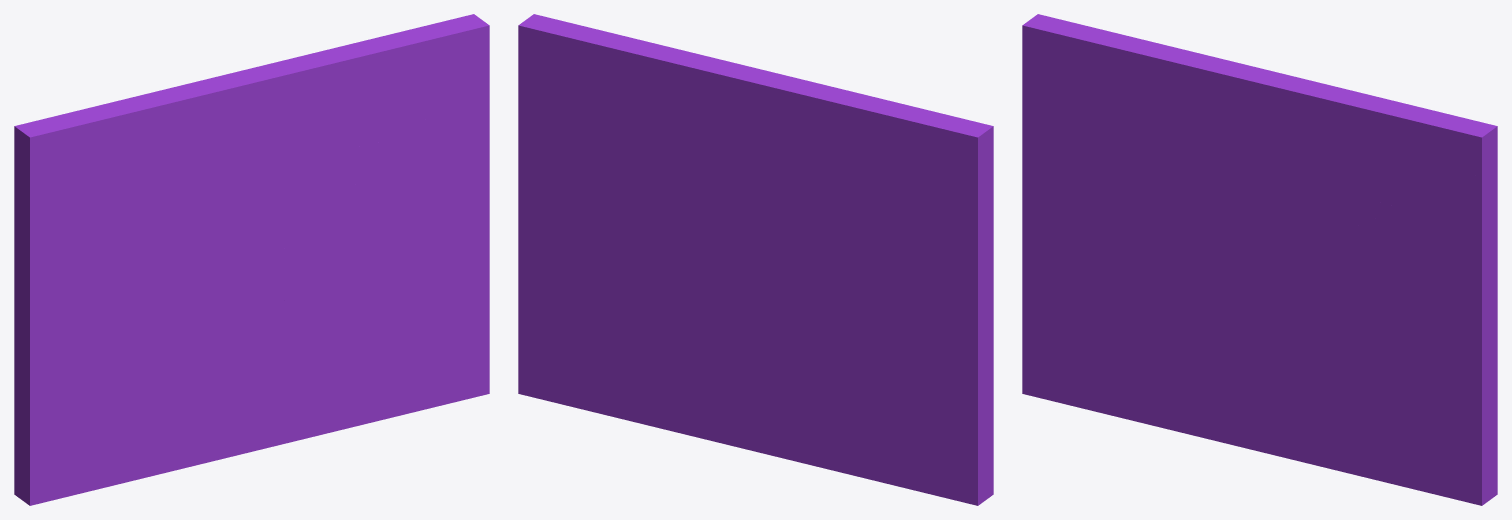
File: Barrier_212_chunks.fbx
3 views of the same model, side by side, from view 1: azimuth 30°, elevation 25°; view 2: azimuth 150°, elevation 25°; view 3: azimuth 330°, elevation 25° (orthographic).
Visible parts, largest first — view 1: Barrier_212_1, Barrier_212_2, Barrier_212_6, Barrier_212_3, Barrier_212_0, Barrier_212_5, Barrier_212_4; view 2: Barrier_212_2, Barrier_212_1, Barrier_212_3, Barrier_212_6, Barrier_212_4, Barrier_212_5, Barrier_212_0; view 3: Barrier_212_1, Barrier_212_2, Barrier_212_6, Barrier_212_3, Barrier_212_0, Barrier_212_5, Barrier_212_4.
Part boxes in pixels (<box>): Barrier_212_1: <box>277,61,489,438</box>; Barrier_212_2: <box>14,147,231,505</box>; Barrier_212_6: <box>249,14,489,165</box>; Barrier_212_3: <box>14,66,257,211</box>; Barrier_212_0: <box>169,256,305,471</box>; Barrier_212_5: <box>115,147,310,262</box>; Barrier_212_4: <box>283,135,407,224</box>; Barrier_212_2: <box>746,158,993,505</box>; Barrier_212_1: <box>518,48,750,447</box>; Barrier_212_3: <box>734,72,993,211</box>; Barrier_212_6: <box>518,14,770,123</box>; Barrier_212_4: <box>550,77,761,240</box>; Barrier_212_5: <box>727,167,854,257</box>; Barrier_212_0: <box>738,369,776,456</box>; Barrier_212_1: <box>1269,149,1497,505</box>; Barrier_212_2: <box>1022,63,1224,427</box>; Barrier_212_6: <box>1242,73,1497,207</box>; Barrier_212_3: <box>1022,14,1280,142</box>; Barrier_212_0: <box>1161,249,1298,460</box>; Barrier_212_5: <box>1108,141,1303,264</box>; Barrier_212_4: <box>1276,177,1400,249</box>.
Size of the model in its own units: 376 by 288 by 22.1.
